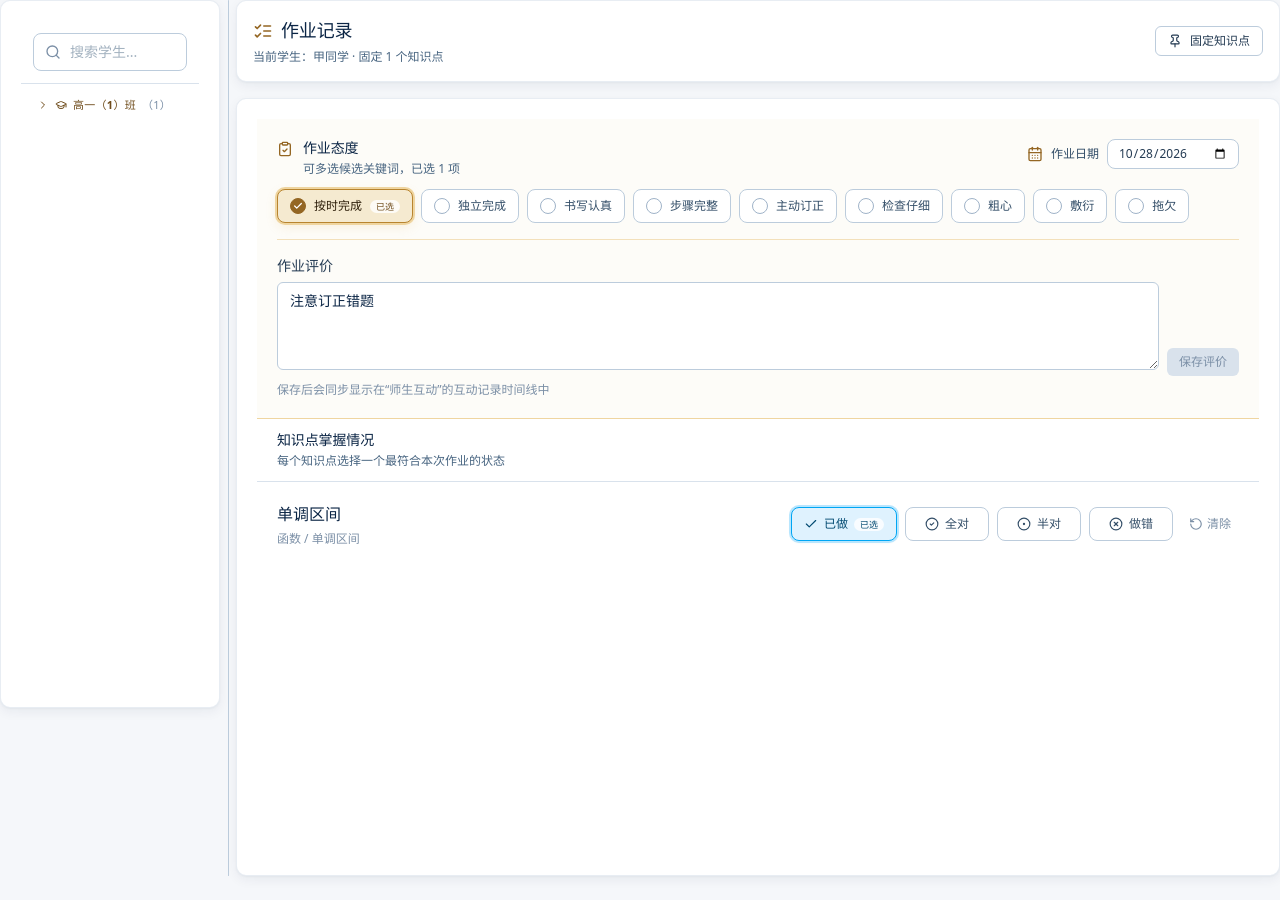
StudentHomeworkRecordPage › uses the same collapsed, followable student roster as student interactions
Click the button "高一（1）班 （1）": (110, 105) top-left (33, 92), bottom-right (187, 118)
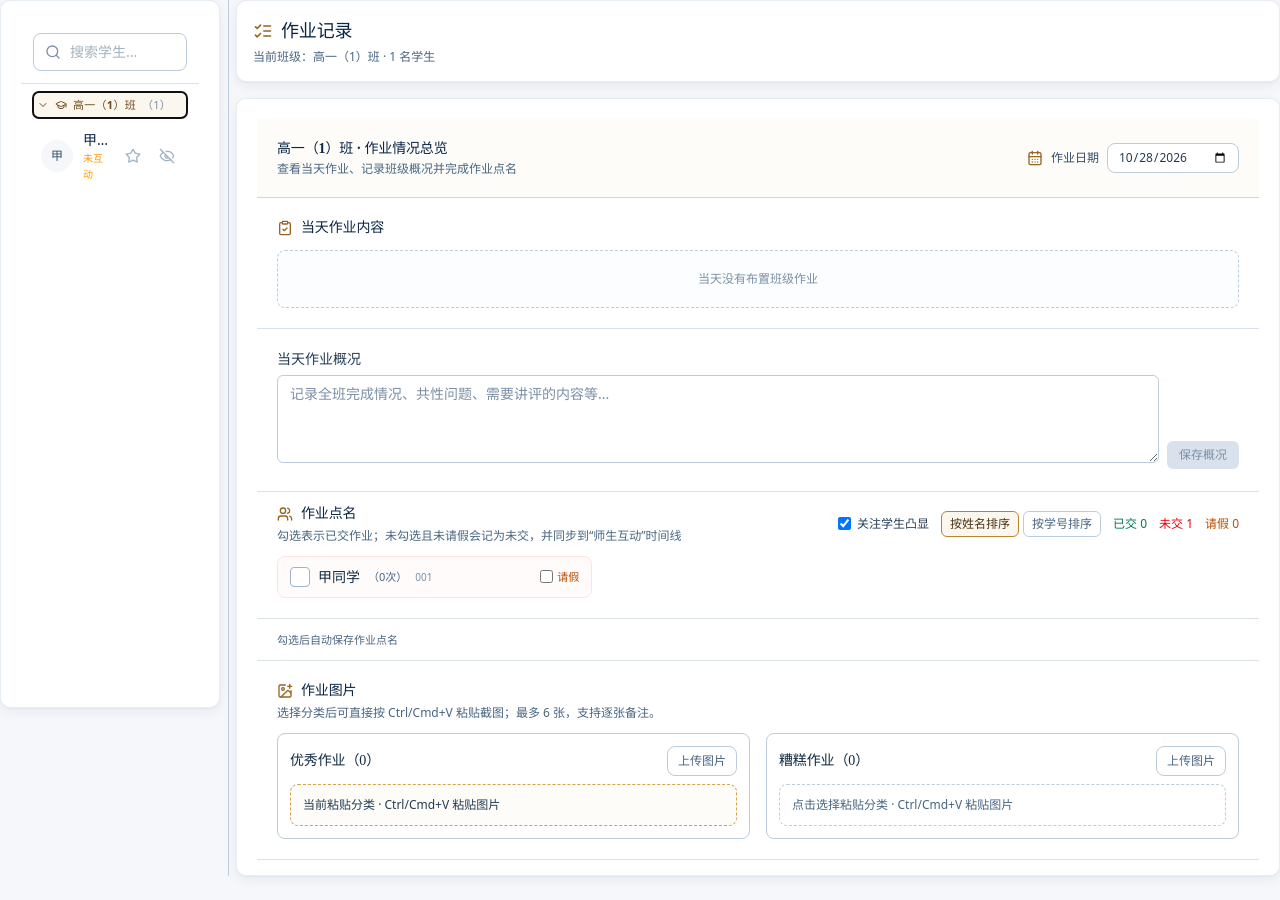
Check: the button "甲 甲同学 未互动" is shown, box top-left (41, 130), bottom-right (111, 182)
Check: the text "未互动" is shown, box top-left (83, 151), bottom-right (103, 181)
Click the button named "关注甲同学": (133, 156) top-left (121, 144), bottom-right (145, 168)
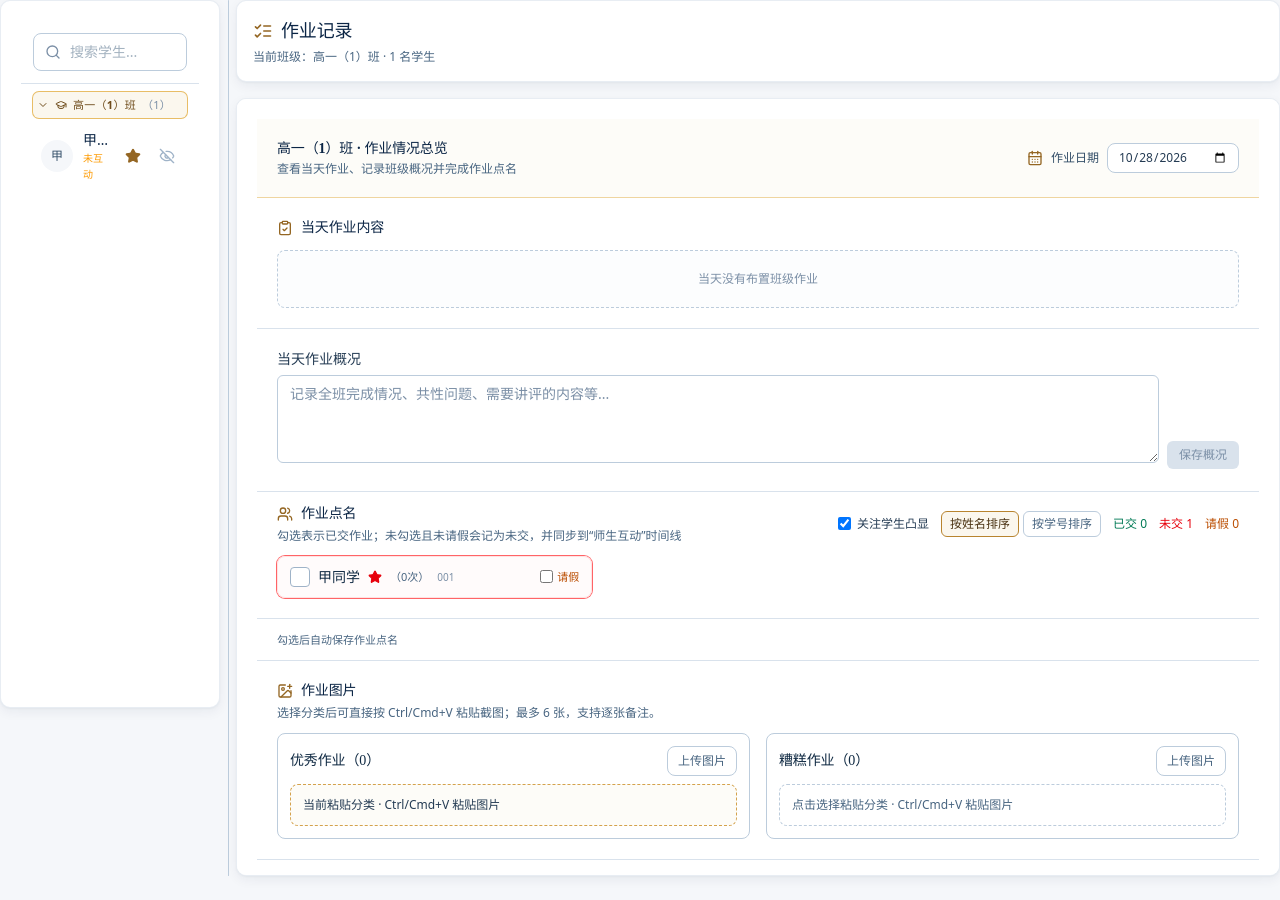
Check: the button named "取消关注甲同学" is shown, box top-left (121, 144), bottom-right (145, 168)
